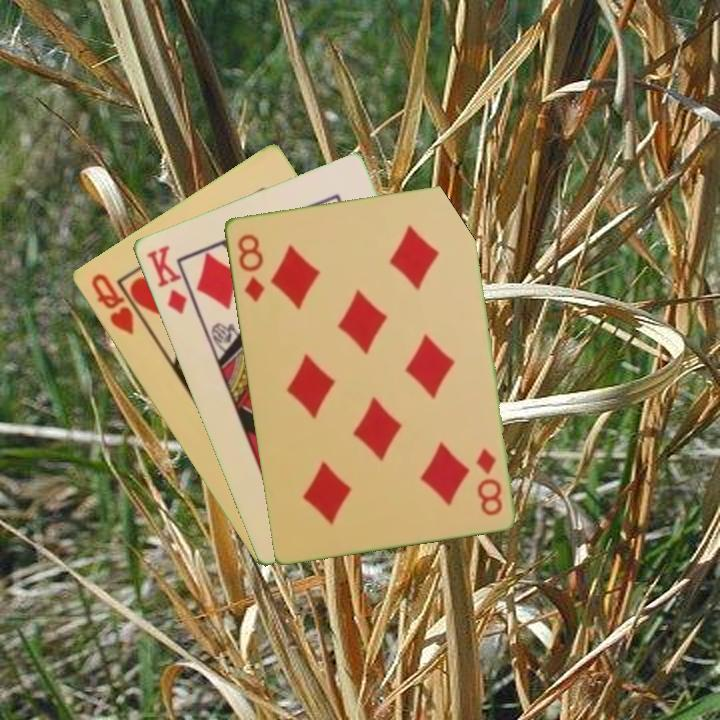8d: (233, 230, 267, 305), (471, 444, 505, 518)
Kd: (142, 241, 190, 317)
Qh: (87, 269, 137, 338)
